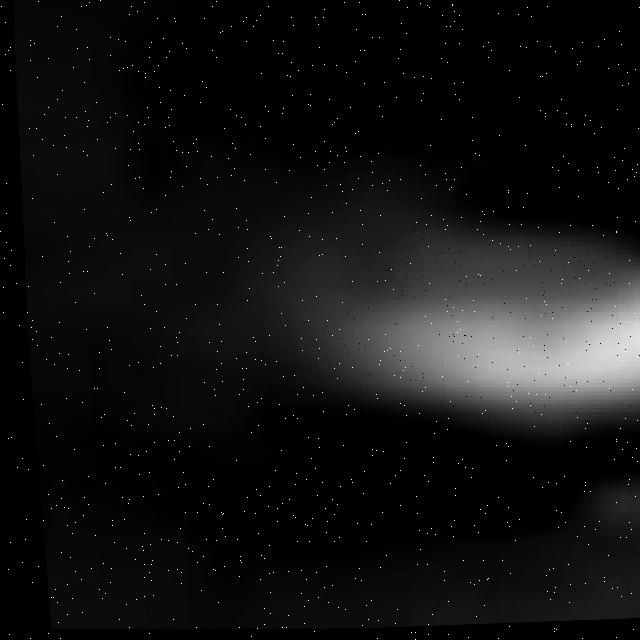person: (232, 203, 640, 446)
